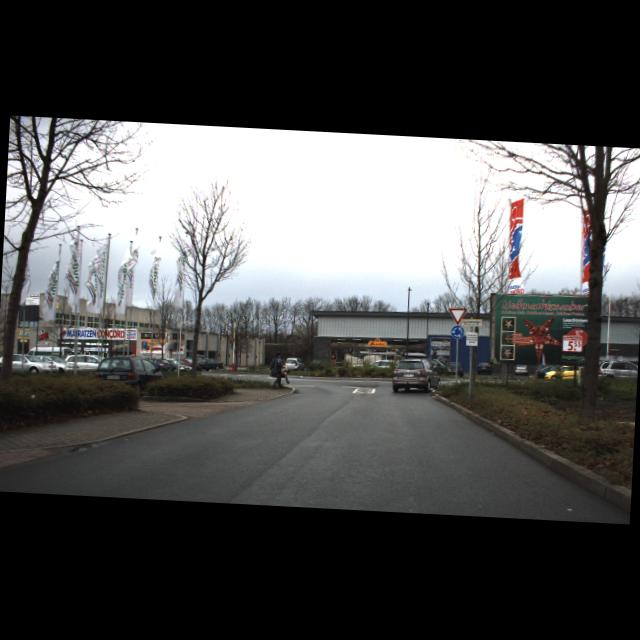mandatory: (450, 324, 465, 340)
other: (448, 307, 468, 325)
